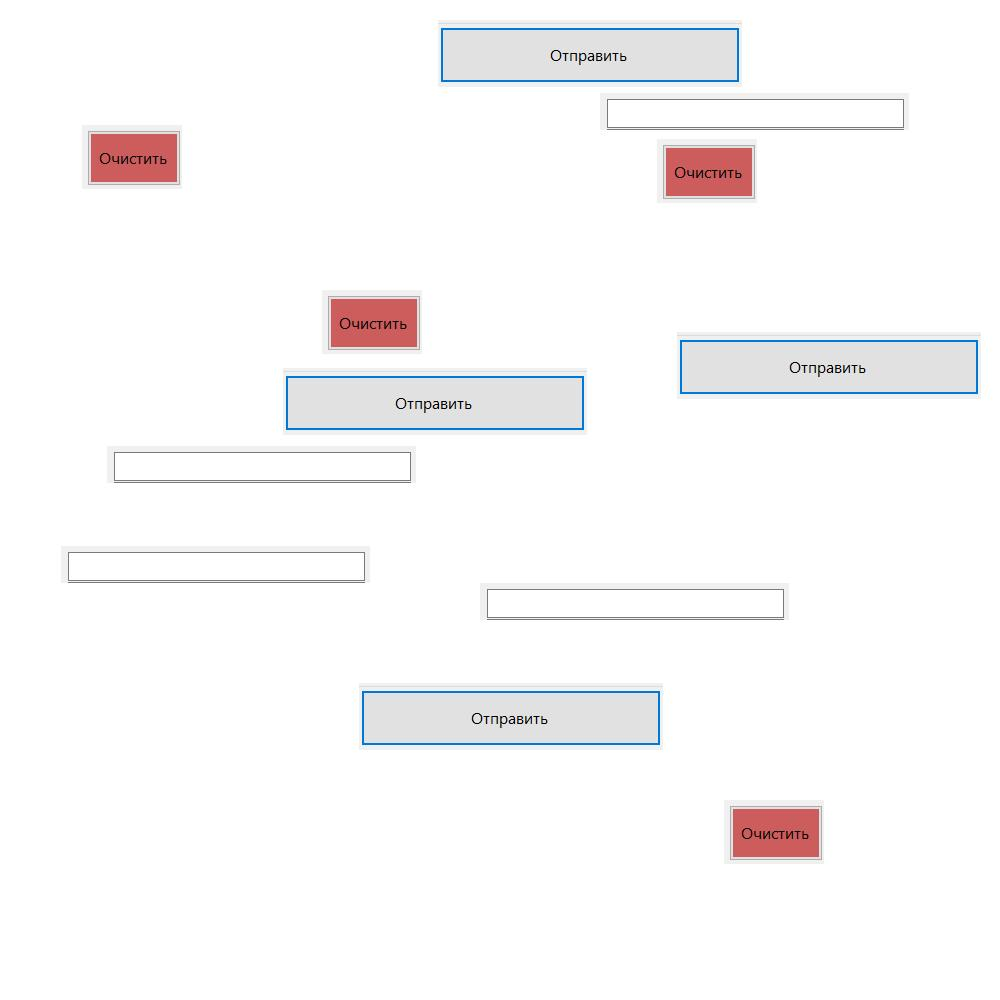Button: (359, 683, 663, 750), (677, 332, 981, 399), (283, 368, 587, 435), (438, 20, 742, 87), (322, 290, 422, 354), (657, 139, 757, 203), (724, 800, 824, 864), (82, 125, 182, 189)
EditText-: (107, 446, 416, 483), (480, 583, 789, 620), (600, 93, 909, 130), (61, 546, 370, 583)
